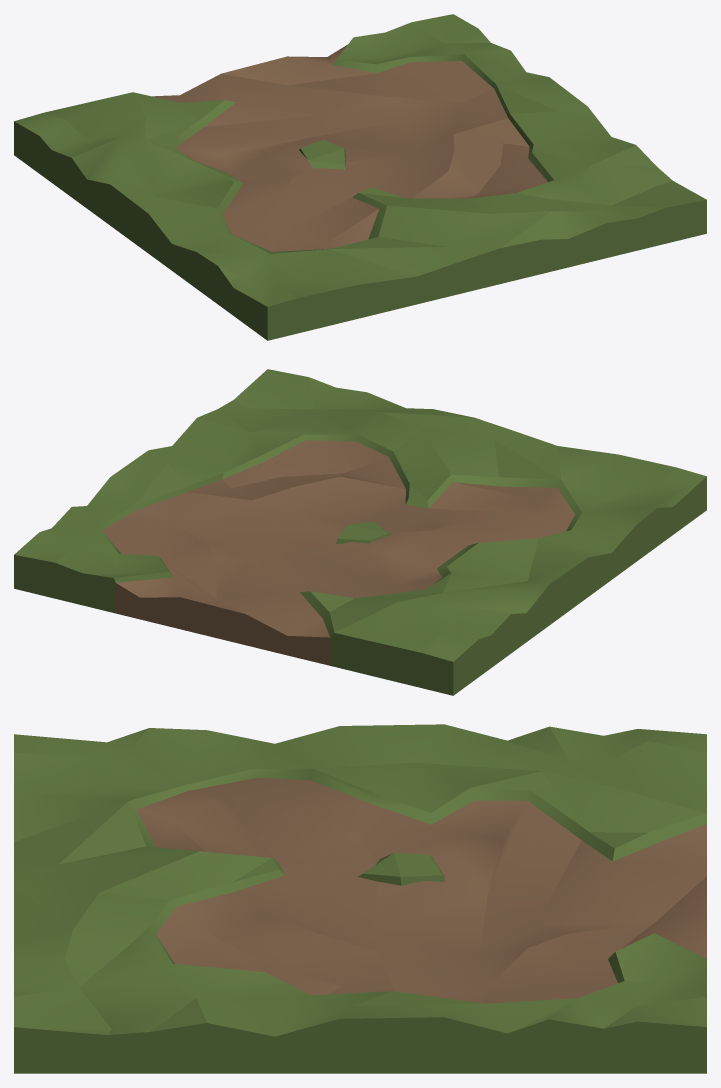
File: Ground_Path_Ending_B.glb
3 renders of one model, top to bottom at view 1: azimuth 30°, elevation 25°; view 2: azimuth 150°, elevation 25°; view 3: azimuth 270°, elevation 25°, orthographic. The views are drawn at different scales.
Visible parts, largest first — view 1: Ground_Path_Ending_B; view 2: Ground_Path_Ending_B; view 3: Ground_Path_Ending_B.
Part boxes in pixels (left/top/right/bottom): Ground_Path_Ending_B: left=14, top=14, right=706, bottom=340; Ground_Path_Ending_B: left=14, top=369, right=706, bottom=695; Ground_Path_Ending_B: left=14, top=724, right=706, bottom=1073.
Size of the model in its own units: 1.47 by 0.1416 by 1.47.
